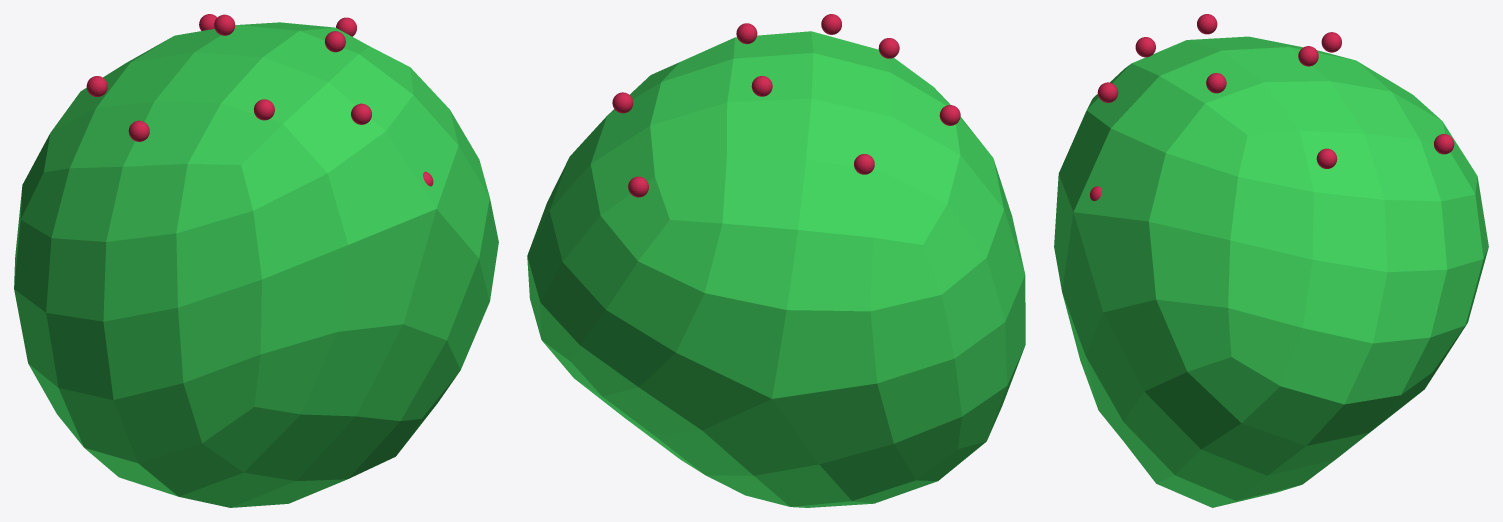
Rendered from polybush_3.fbx.
3 renders of one model, left to right at view 1: azimuth 30°, elevation 25°; view 2: azimuth 150°, elevation 25°; view 3: azimuth 270°, elevation 25°, orthographic. The views are drawn at different scales.
Visible parts, largest first — view 1: Icosphere.002; view 2: Icosphere.002; view 3: Icosphere.002.
Part boxes in pixels (box(x1,y1,x2,y2)): Icosphere.002: box(14, 22, 498, 507); Icosphere.002: box(527, 31, 1025, 507); Icosphere.002: box(1054, 36, 1488, 507).
Bounding box in the file's own units: 257 × 249 × 226.
